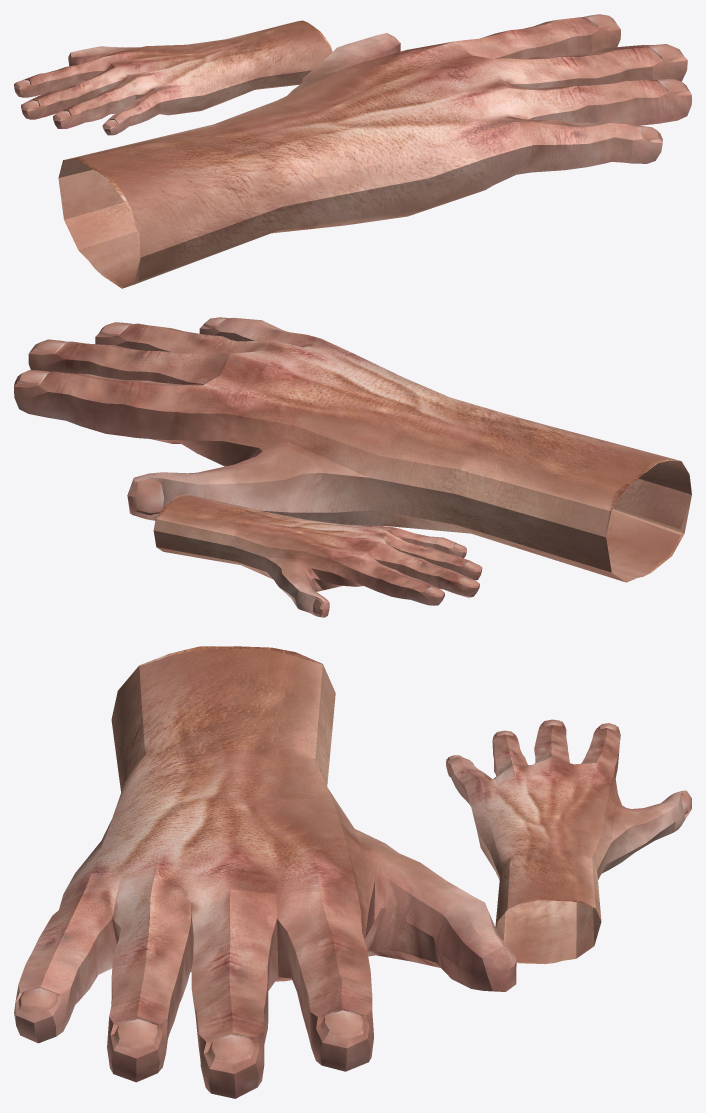
Rendered from hands.fbx.
The picture shows the model from 3 angles, top to bottom: view 1: azimuth 30°, elevation 25°; view 2: azimuth 150°, elevation 25°; view 3: azimuth 270°, elevation 25°; orthographic projection. The views are drawn at different scales.
Parts seen in each view (by area): view 1: Cube.000_Cube.017_Detached, Cube.000_Cube.017_Detached_Detached; view 2: Cube.000_Cube.017_Detached, Cube.000_Cube.017_Detached_Detached; view 3: Cube.000_Cube.017_Detached, Cube.000_Cube.017_Detached_Detached.
Part boxes in pixels (<box>): Cube.000_Cube.017_Detached: <box>58,14,691,288</box>; Cube.000_Cube.017_Detached_Detached: <box>14,20,332,135</box>; Cube.000_Cube.017_Detached: <box>14,317,691,582</box>; Cube.000_Cube.017_Detached_Detached: <box>153,494,482,617</box>; Cube.000_Cube.017_Detached: <box>14,646,516,1098</box>; Cube.000_Cube.017_Detached_Detached: <box>446,719,691,964</box>.
Bounding box in the file's own units: 0.515 × 0.0973 × 0.3772.
1 material, 1 textured.
